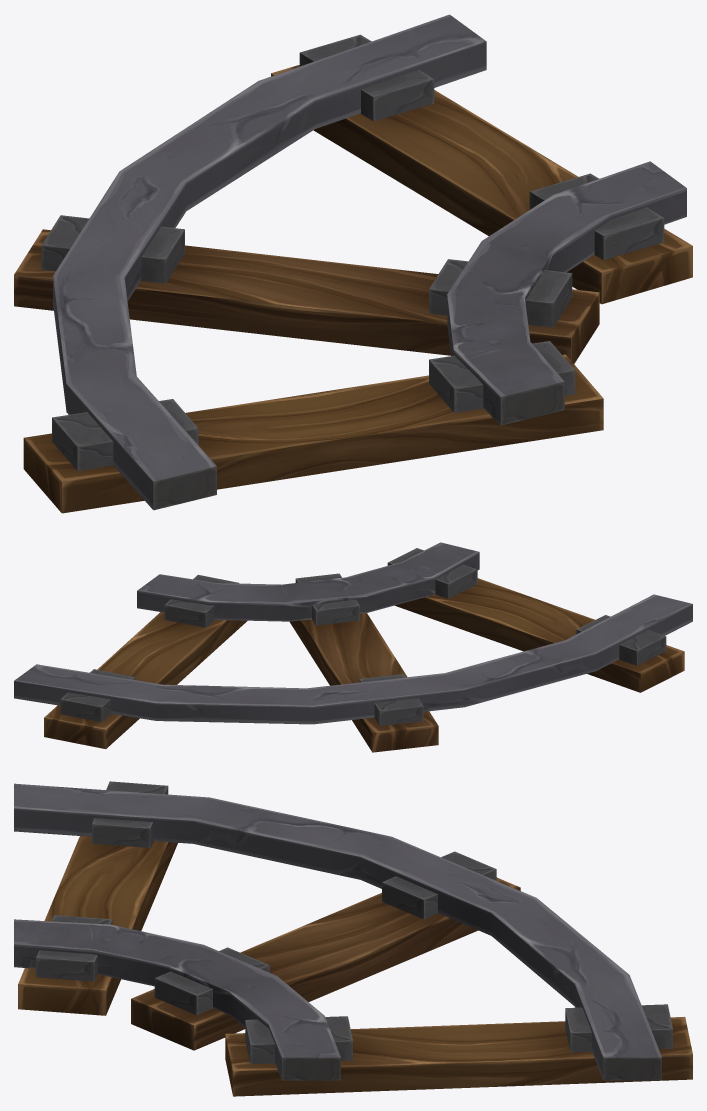
The model's file is Railway_3.FBX.
The picture shows the model from 3 angles, top to bottom: view 1: azimuth 30°, elevation 25°; view 2: azimuth 150°, elevation 25°; view 3: azimuth 270°, elevation 25°; orthographic projection. The views are drawn at different scales.
Parts seen in each view (by area): view 1: Railway_3; view 2: Railway_3; view 3: Railway_3.
Boxes of the visible parts, x1,y1,x2,y2 form: Railway_3: (14, 14, 692, 513); Railway_3: (14, 542, 692, 752); Railway_3: (14, 781, 692, 1096).
Bounding box in the file's own units: 1.49 × 0.1172 × 1.48.
